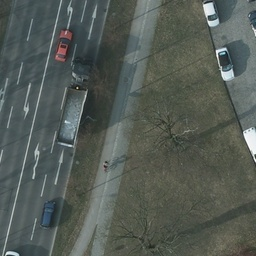car: (215, 48, 234, 80), (55, 28, 71, 63), (202, 1, 221, 27), (39, 199, 55, 229)
